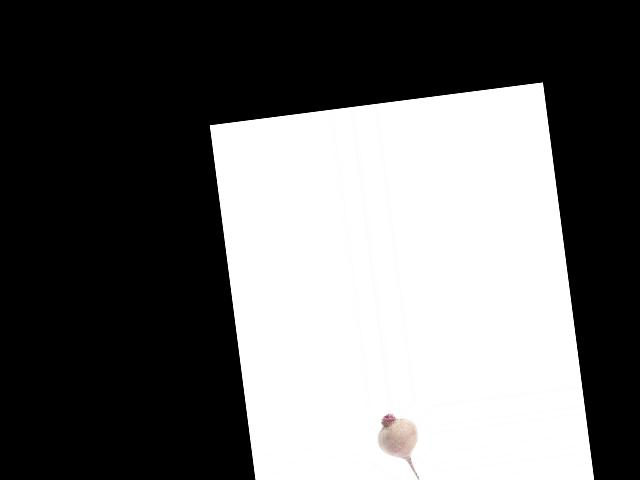beet: (373, 410, 424, 480)
